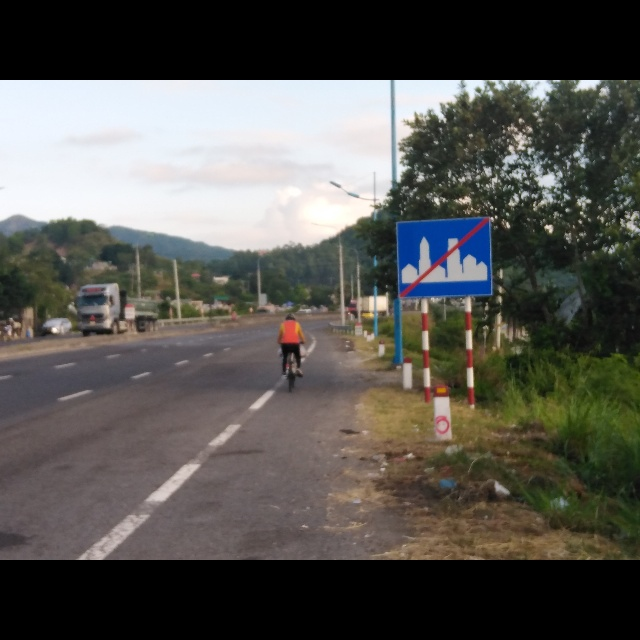Hết khu đông dân cư: (392, 216, 493, 300)
